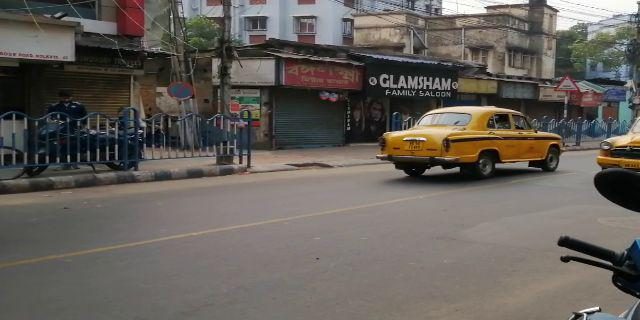Car: (374, 103, 570, 180)
